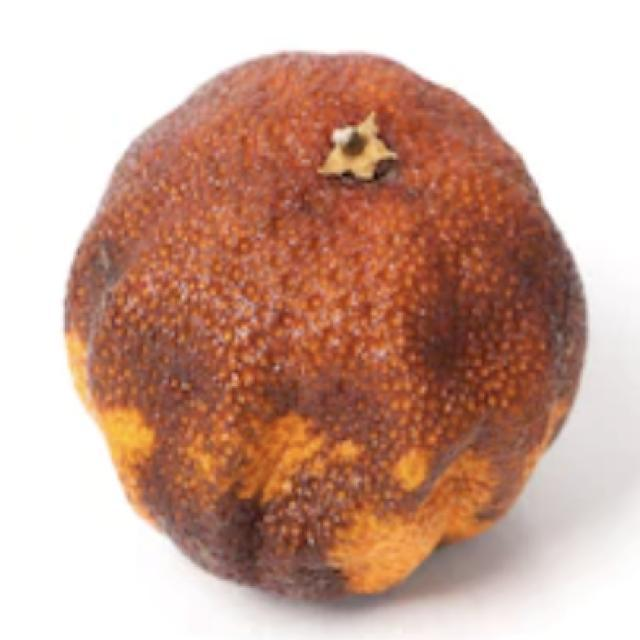sangat-busuk: (65, 53, 586, 597)
